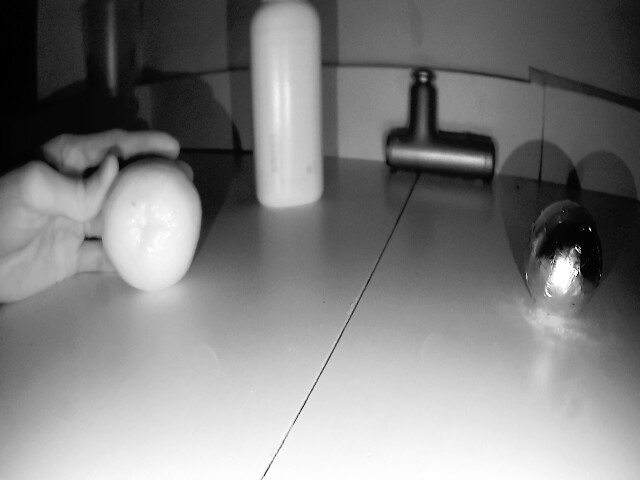silver: (522, 191, 609, 311)
